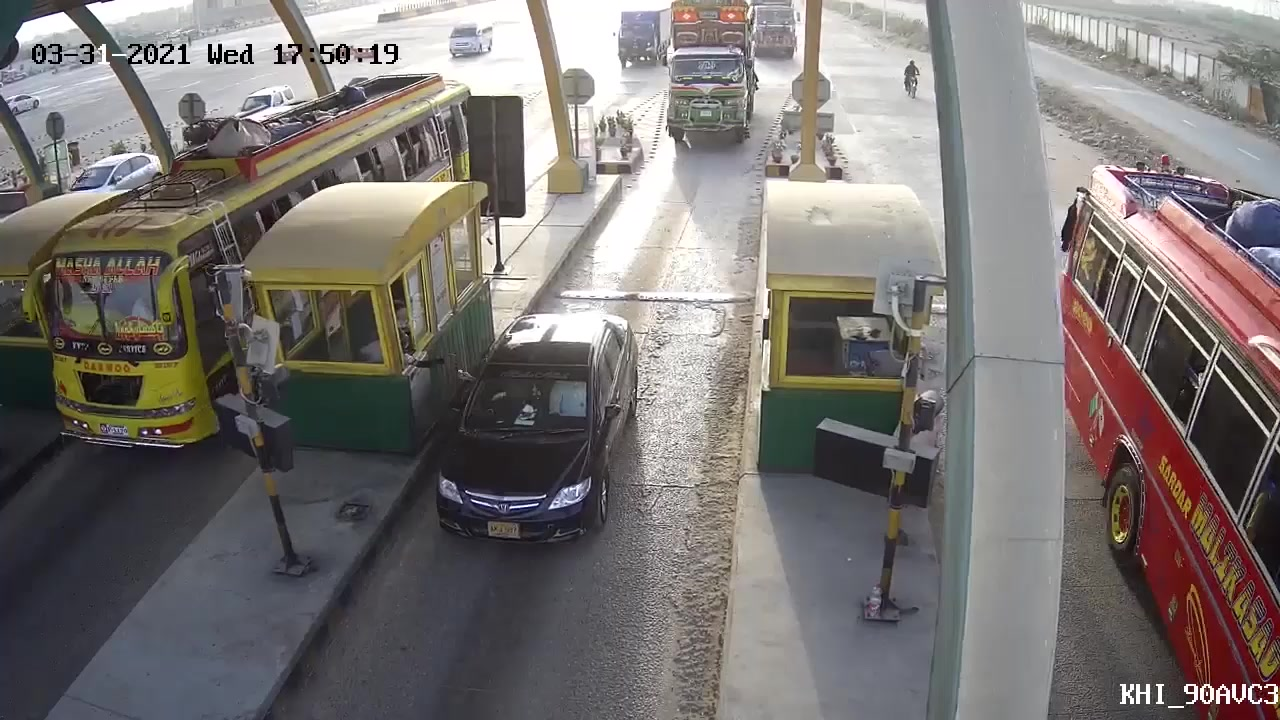F1: (430, 310, 644, 559)
